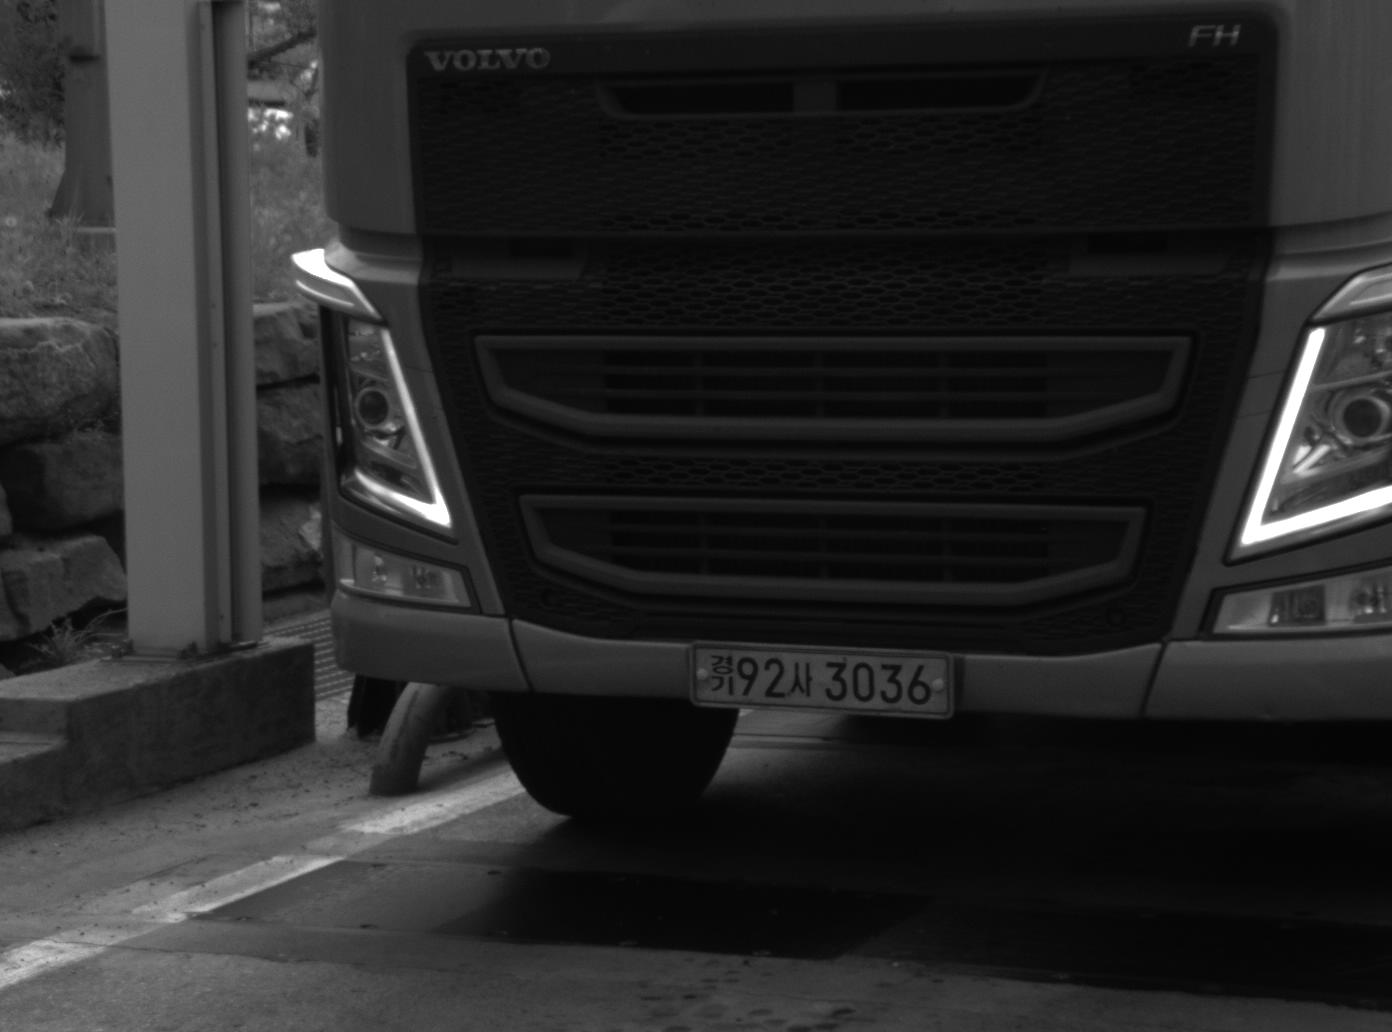car: (279, 1, 1390, 845)
plate: (684, 640, 960, 719)
